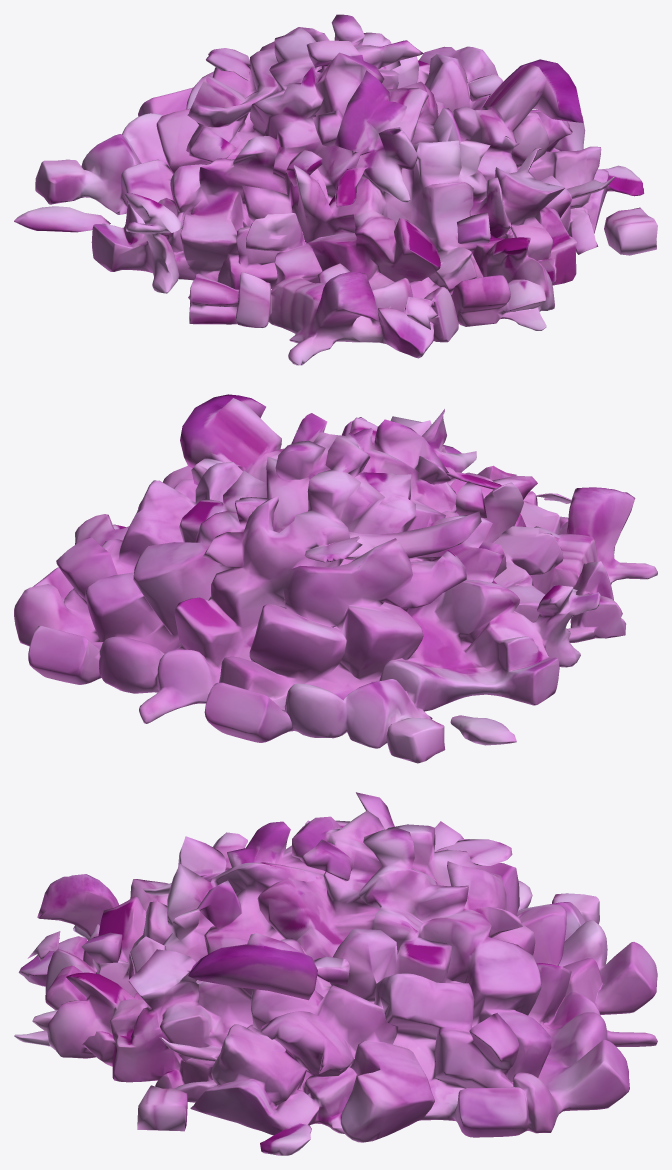
The model's file is cebollaCubitos.glb.
3 renders of one model, top to bottom at view 1: azimuth 30°, elevation 25°; view 2: azimuth 150°, elevation 25°; view 3: azimuth 270°, elevation 25°, orthographic. The views are drawn at different scales.
Parts seen in each view (by area): view 1: tripo_node_da0cd10d-75ba-4a79-9626-fa4788ab80d0; view 2: tripo_node_da0cd10d-75ba-4a79-9626-fa4788ab80d0; view 3: tripo_node_da0cd10d-75ba-4a79-9626-fa4788ab80d0.
Part boxes in pixels (left/top/right/bottom): tripo_node_da0cd10d-75ba-4a79-9626-fa4788ab80d0: left=14, top=14, right=657, bottom=365; tripo_node_da0cd10d-75ba-4a79-9626-fa4788ab80d0: left=14, top=394, right=657, bottom=763; tripo_node_da0cd10d-75ba-4a79-9626-fa4788ab80d0: left=14, top=792, right=657, bottom=1155.
Size of the model in its own units: 0.9583 by 0.334 by 0.9798.
Materials: 1 (1 with a texture image).
